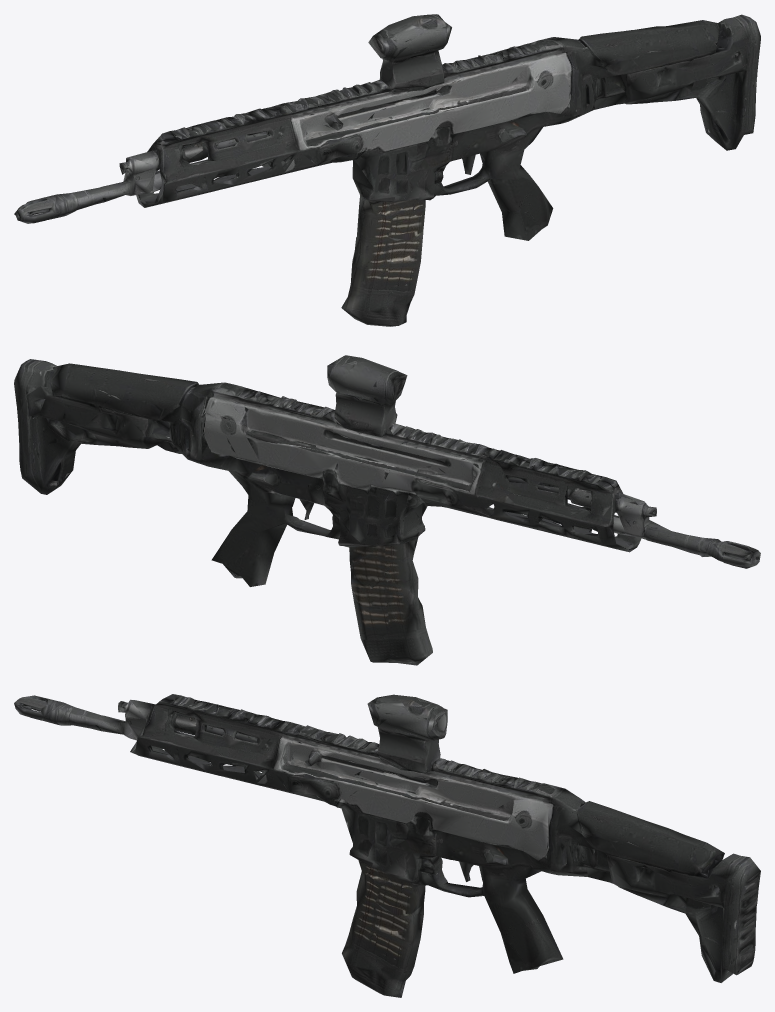
File: fusil_cz.glb
3 renders of one model, top to bottom at view 1: azimuth 30°, elevation 25°; view 2: azimuth 150°, elevation 25°; view 3: azimuth 330°, elevation 25°, orthographic.
Bounding box in the file's own units: 1.9 × 0.7443 × 0.147.
1 material, 1 textured.
